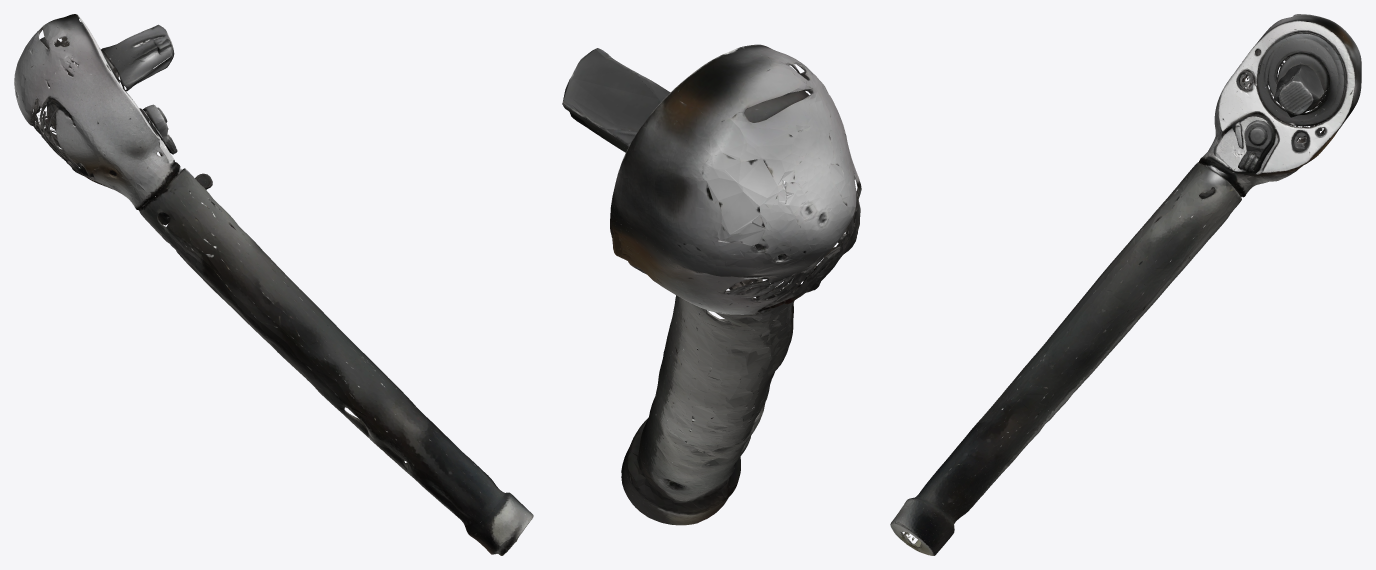
The model's file is refined.glb.
3 renders of one model, left to right at view 1: azimuth 30°, elevation 25°; view 2: azimuth 150°, elevation 25°; view 3: azimuth 270°, elevation 25°, orthographic. The views are drawn at different scales.
Visible parts, largest first — view 1: world; view 2: world; view 3: world.
Part boxes in pixels (x1,y1,x2,y2): world: [14, 14, 533, 555]; world: [562, 44, 861, 525]; world: [890, 14, 1361, 555].
Bounding box in the file's own units: 0.7373 × 1 × 1.
Materials: 1 (1 with a texture image).
